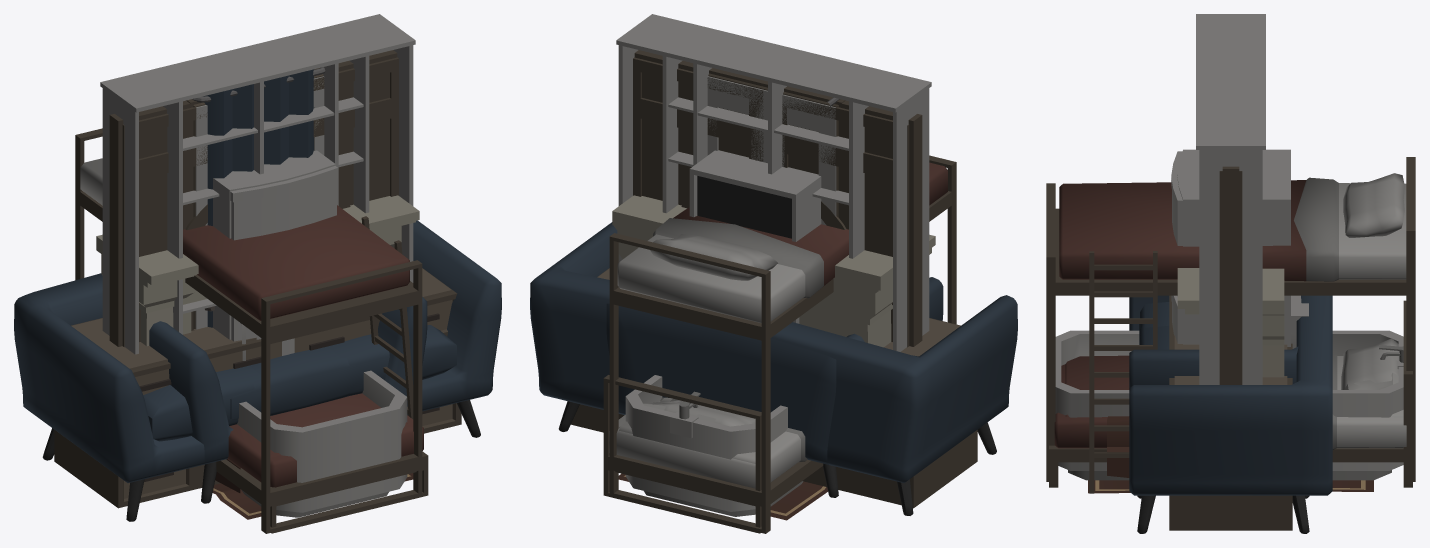
Rendered from interior.glb.
3 renders of one model, left to right at view 1: azimuth 30°, elevation 25°; view 2: azimuth 150°, elevation 25°; view 3: azimuth 270°, elevation 25°, orthographic. The views are drawn at different scales.
Parts seen in each view (by area): view 1: Bed_Bunk, Couch_Medium1, Shelf_Large, Door_Double, Bookshelf, Couch_Small1, Drawer_3, Bathroom_Bathtub, Kitchen_Fridge, Curtains_Single, Fireplace, Bed_Single (+2 smaller); view 2: Couch_Medium1, Bed_Bunk, Shelf_Large, Door_Double, Couch_Small1, Bookshelf, Kitchen_Fridge, Fireplace, Bathroom_Bathtub, Bed_Single, Drawer_3, Door_1 (+2 smaller); view 3: Bed_Bunk, Couch_Medium1, Shelf_Large, Bathroom_Bathtub, Bed_Single, Kitchen_Fridge, Bookshelf, Drawer_3, Door_Double, Couch_Small1, Fireplace, Carpet_1 (+1 smaller).
Part boxes in pixels (left/top/right/bottom): Bed_Bunk: left=75, top=128, right=422, bottom=533; Couch_Medium1: left=14, top=220, right=501, bottom=521; Shelf_Large: left=100, top=14, right=415, bottom=354; Door_Double: left=109, top=50, right=398, bottom=347; Bookshelf: left=144, top=24, right=371, bottom=334; Couch_Small1: left=149, top=297, right=427, bottom=503; Drawer_3: left=54, top=268, right=461, bottom=508; Bathroom_Bathtub: left=237, top=370, right=407, bottom=517; Kitchen_Fridge: left=213, top=150, right=337, bottom=360; Curtains_Single: left=192, top=67, right=325, bottom=327; Fireplace: left=96, top=195, right=419, bottom=346; Bed_Single: left=215, top=415, right=428, bottom=533; Couch_Medium1: left=530, top=222, right=1017, bottom=515; Bed_Bunk: left=609, top=155, right=956, bottom=533; Shelf_Large: left=616, top=14, right=931, bottom=351; Door_Double: left=633, top=50, right=922, bottom=347; Couch_Small1: left=606, top=277, right=943, bottom=497; Bookshelf: left=660, top=25, right=887, bottom=258; Kitchen_Fridge: left=689, top=150, right=821, bottom=323; Fireplace: left=612, top=195, right=935, bottom=347; Bathroom_Bathtub: left=625, top=375, right=803, bottom=516; Bed_Single: left=603, top=375, right=761, bottom=533; Drawer_3: left=571, top=268, right=977, bottom=508; Door_1: left=707, top=76, right=836, bottom=225; Bed_Bunk: left=1046, top=157, right=1415, bottom=493; Couch_Medium1: left=1129, top=295, right=1332, bottom=533; Shelf_Large: left=1196, top=14, right=1265, bottom=384; Bathroom_Bathtub: left=1055, top=330, right=1403, bottom=480; Bed_Single: left=1049, top=300, right=1412, bottom=487; Kitchen_Fridge: left=1171, top=149, right=1290, bottom=346; Bookshelf: left=1196, top=34, right=1265, bottom=125; Drawer_3: left=1169, top=295, right=1292, bottom=530; Door_Double: left=1219, top=166, right=1242, bottom=384; Couch_Small1: left=1129, top=295, right=1309, bottom=498; Fireplace: left=1177, top=268, right=1284, bottom=377; Carpet_1: left=1088, top=480, right=1373, bottom=493.
Bounding box in the file's own units: 2.34 × 2.22 × 2.
